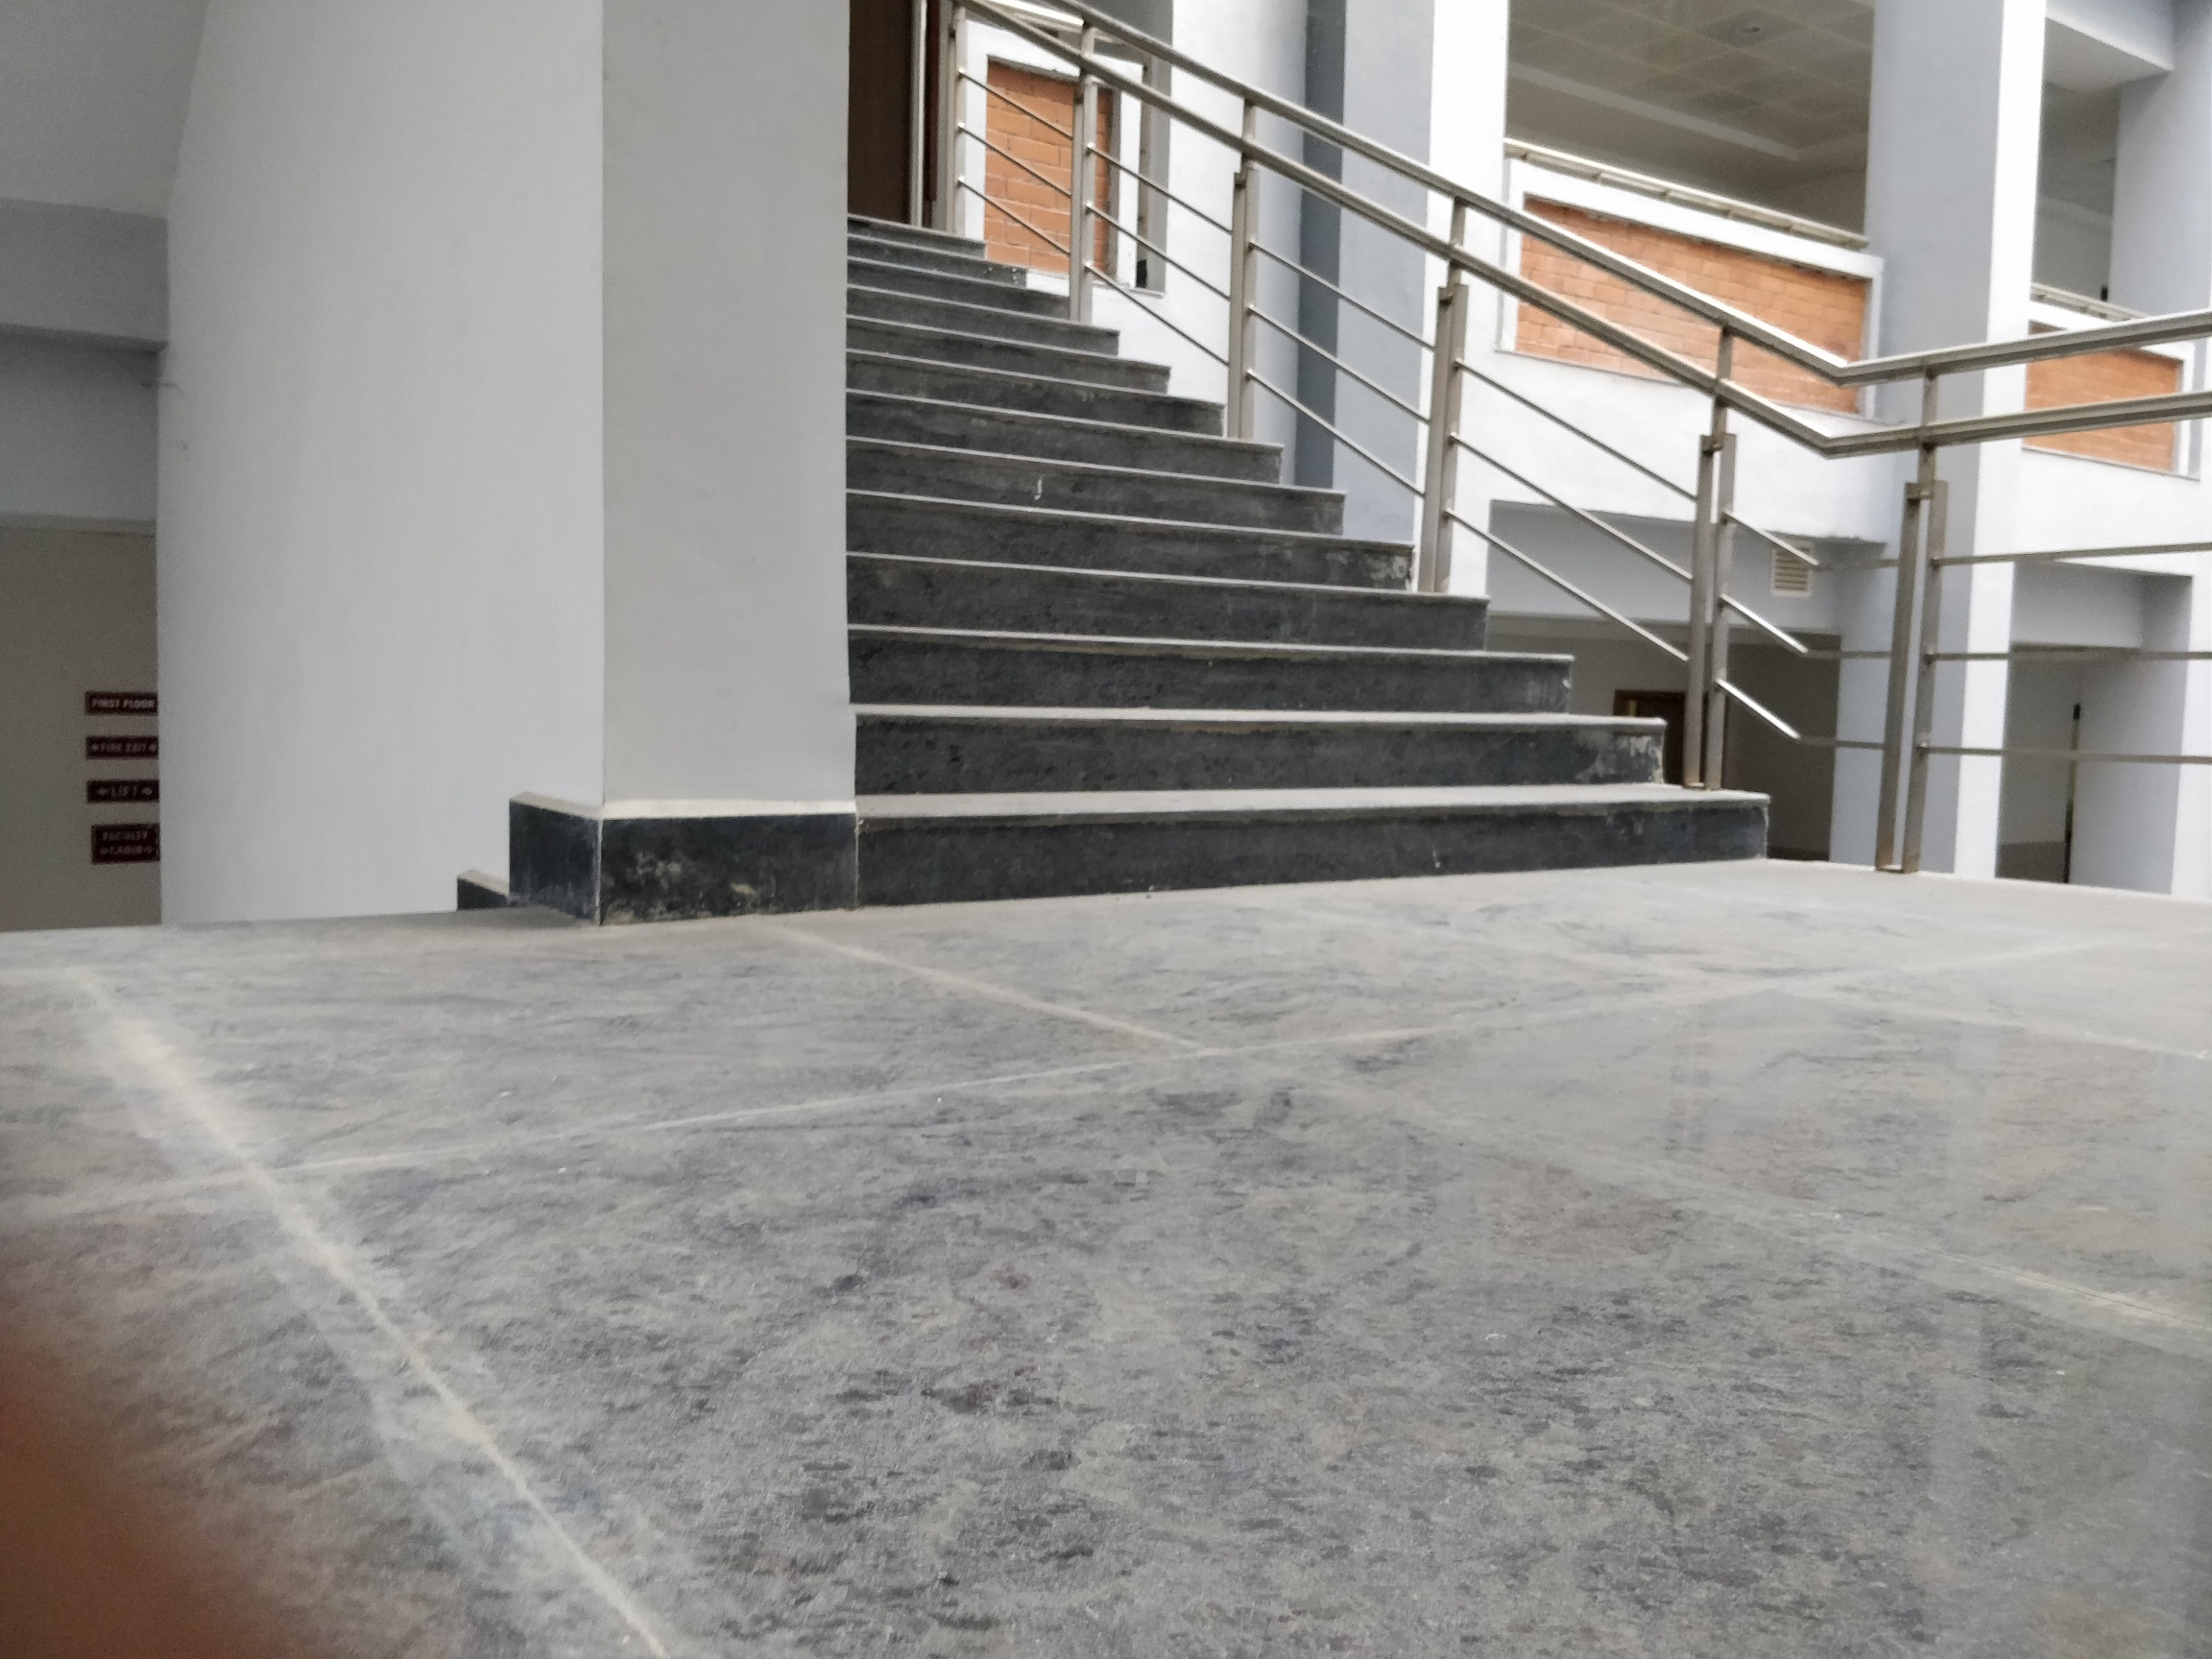stairs_up: (859, 202, 1761, 901)
